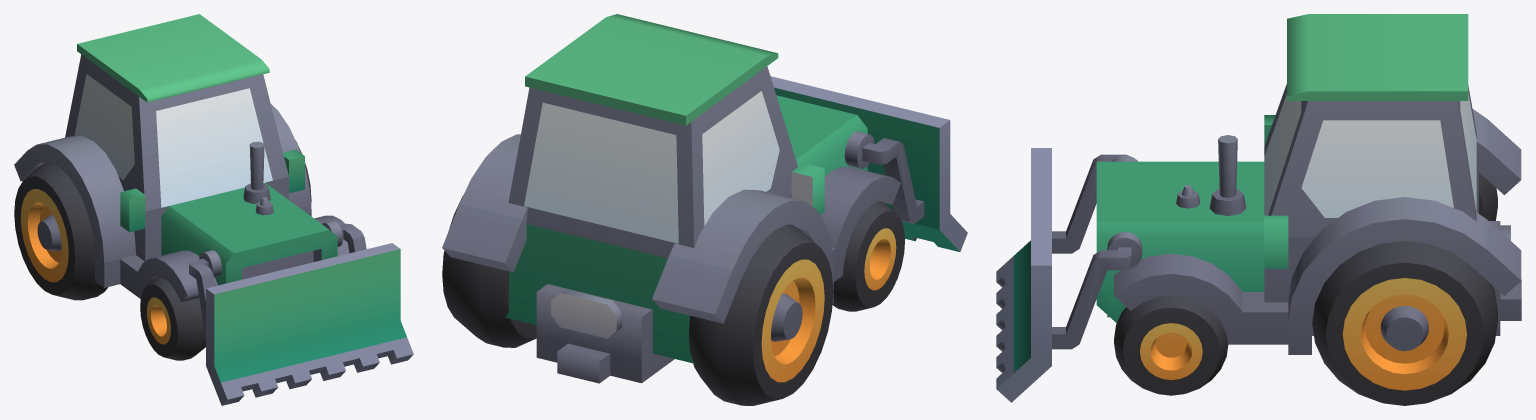
Rendered from mod-trator-pa.gltf.
3 views of the same model, side by side, from view 1: azimuth 30°, elevation 25°; view 2: azimuth 150°, elevation 25°; view 3: azimuth 270°, elevation 25° (orthographic). The views are drawn at different scales.
Visible parts, largest first — view 1: wheel-back-left; view 2: wheel-back-left; view 3: wheel-back-left.
Part boxes in pixels (x1,y1,x2,y2): wheel-back-left: (14,14,413,405); wheel-back-left: (442,14,967,405); wheel-back-left: (996,14,1521,405).
Bounding box in the file's own units: 1.59 × 1.45 × 2.37.
Materials: 1 (1 with a texture image).
